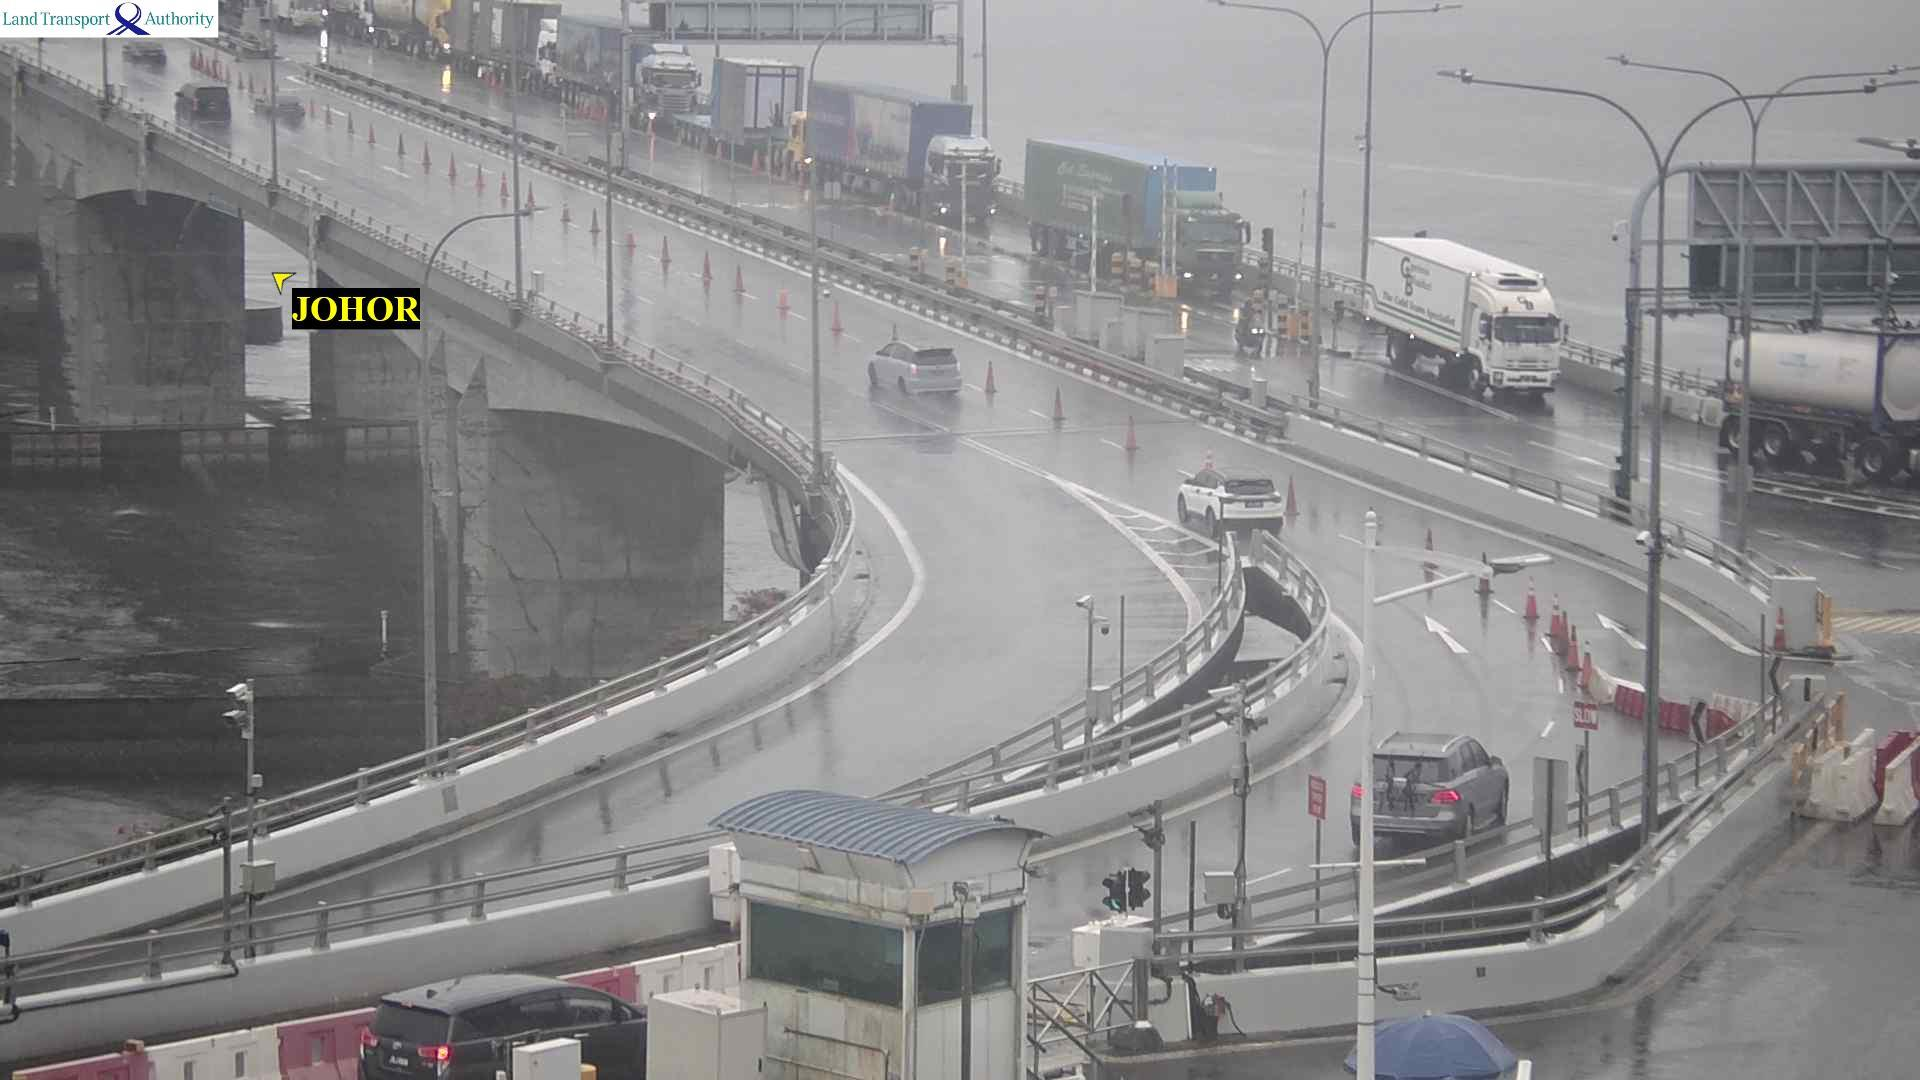vehicle-secondlink-johor: (367, 978, 641, 1080), (1365, 733, 1512, 843), (1187, 473, 1300, 529), (874, 346, 962, 395), (175, 75, 229, 127), (117, 42, 165, 79), (262, 87, 289, 121)
vehicle-secondlink-singapore: (687, 54, 1015, 205), (1025, 141, 1253, 295), (1722, 328, 1920, 488), (1372, 234, 1558, 303), (558, 15, 698, 99), (457, 5, 557, 88), (272, 0, 332, 31)
